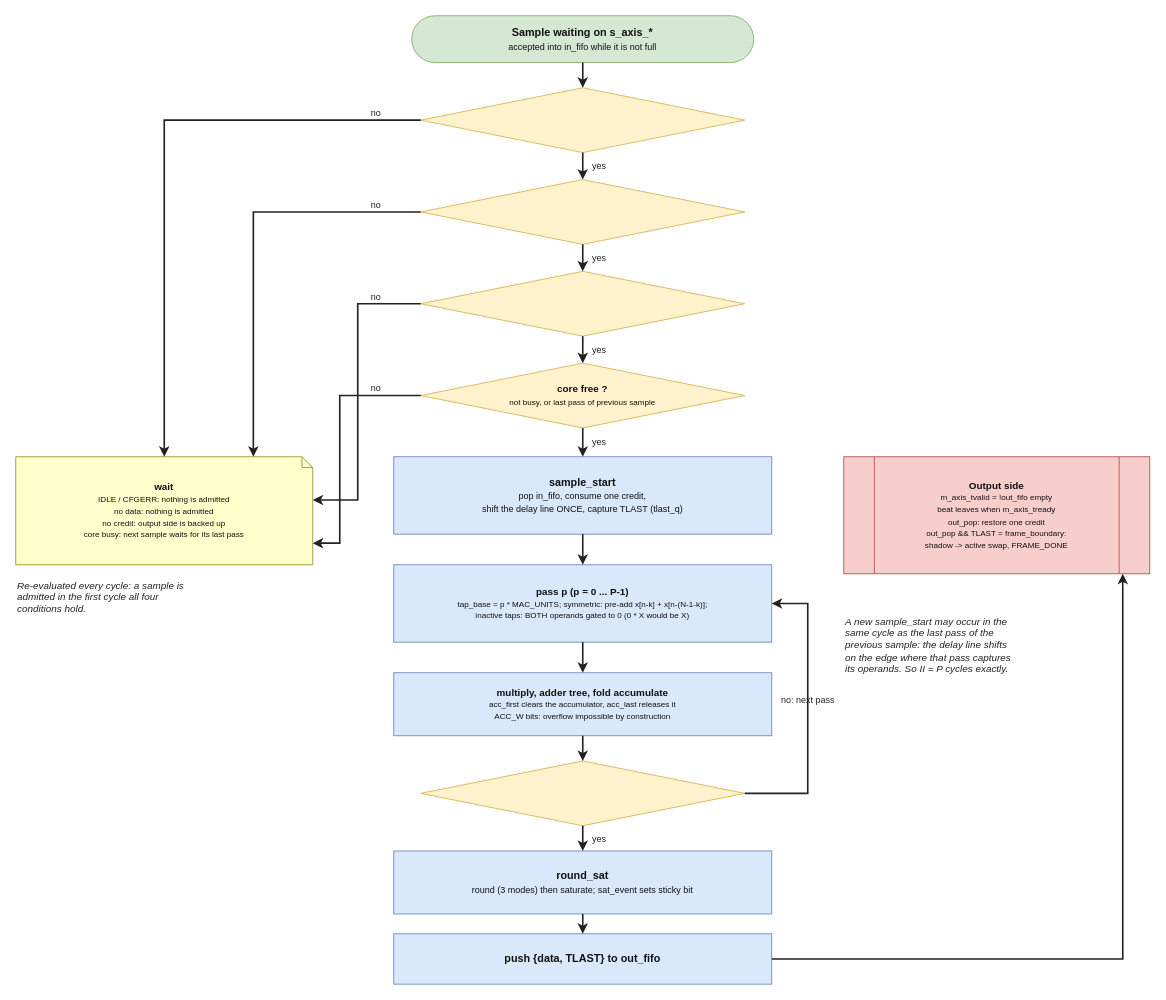
The diagram is 1166 pixels wide and 1000 high, and some of its shapes have lost their labels. The shapes that lost their labels are listed below. From the top down, each one's centre as x and y in pixels, then its label:
the point at 582,120: state == RUN ? ENABLE set and configuration legal
the point at 582,211: in_fifo not empty ?
the point at 582,303: credit available ? credits != 0 (output slot guaranteed)
the point at 582,793: last pass ? p == P - 1
